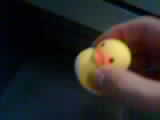duck: (66, 32, 127, 92)
